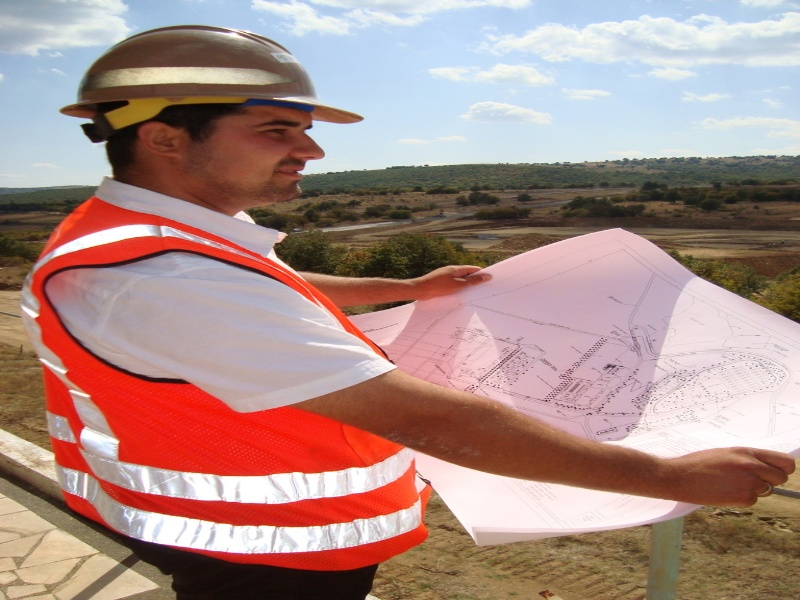Baret: (66, 24, 354, 130)
